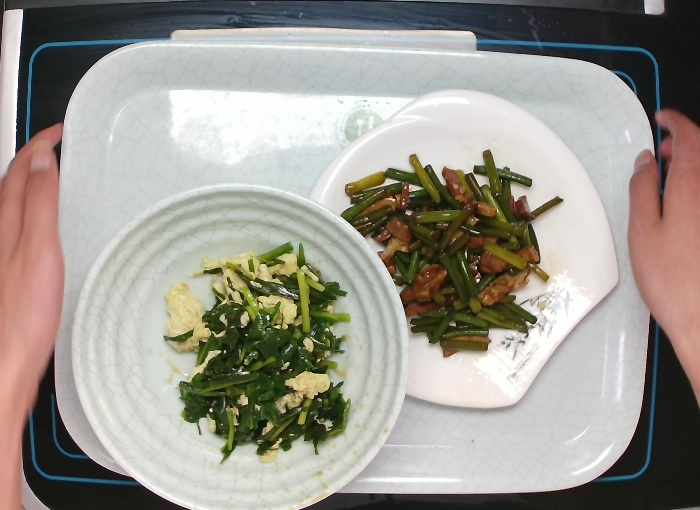JYsf-Da_Tang_Wan: (62, 177, 413, 510)
JYsf-Mian_Pan: (306, 80, 622, 417)
